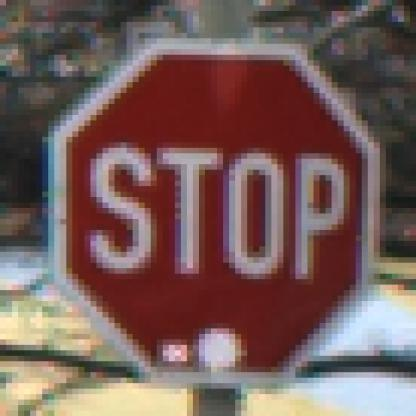stop: (56, 34, 375, 382)
